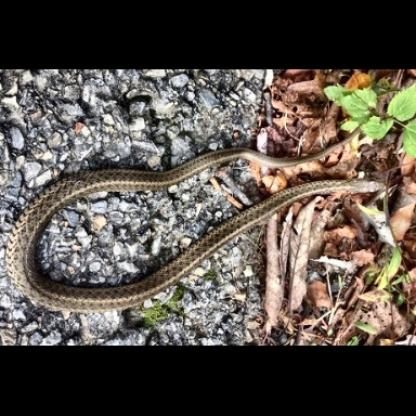Snake: (10, 141, 398, 315)
